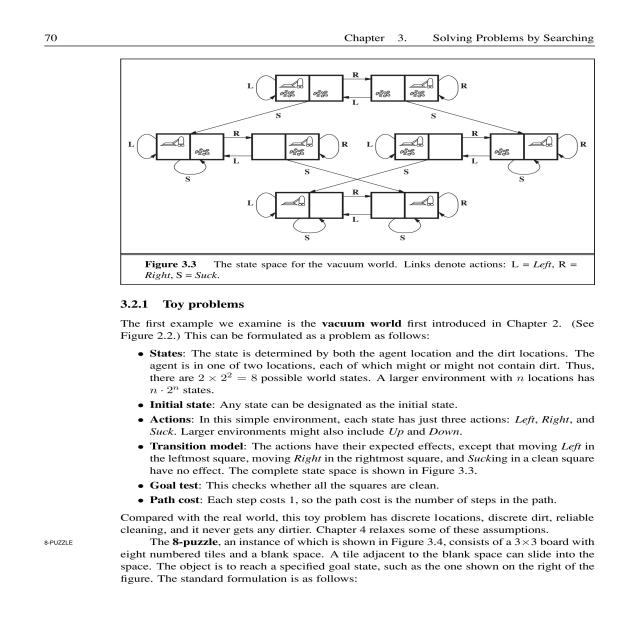diagram: (101, 52, 640, 298)
